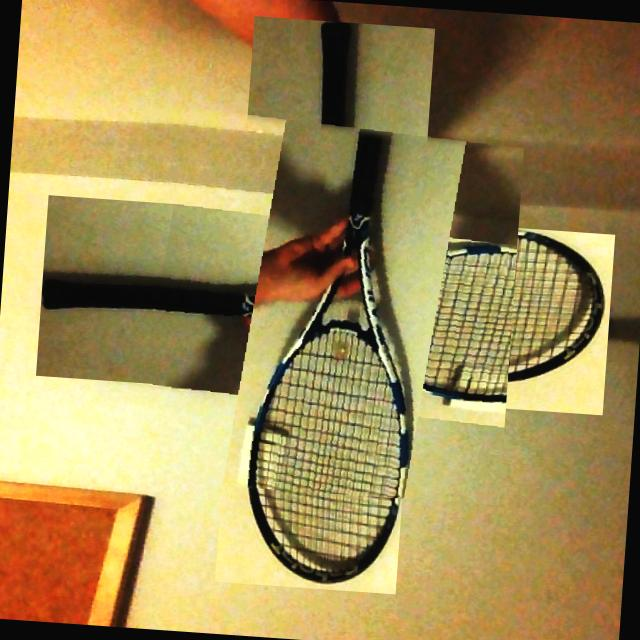TennisRacket: (126, 104, 524, 504)
